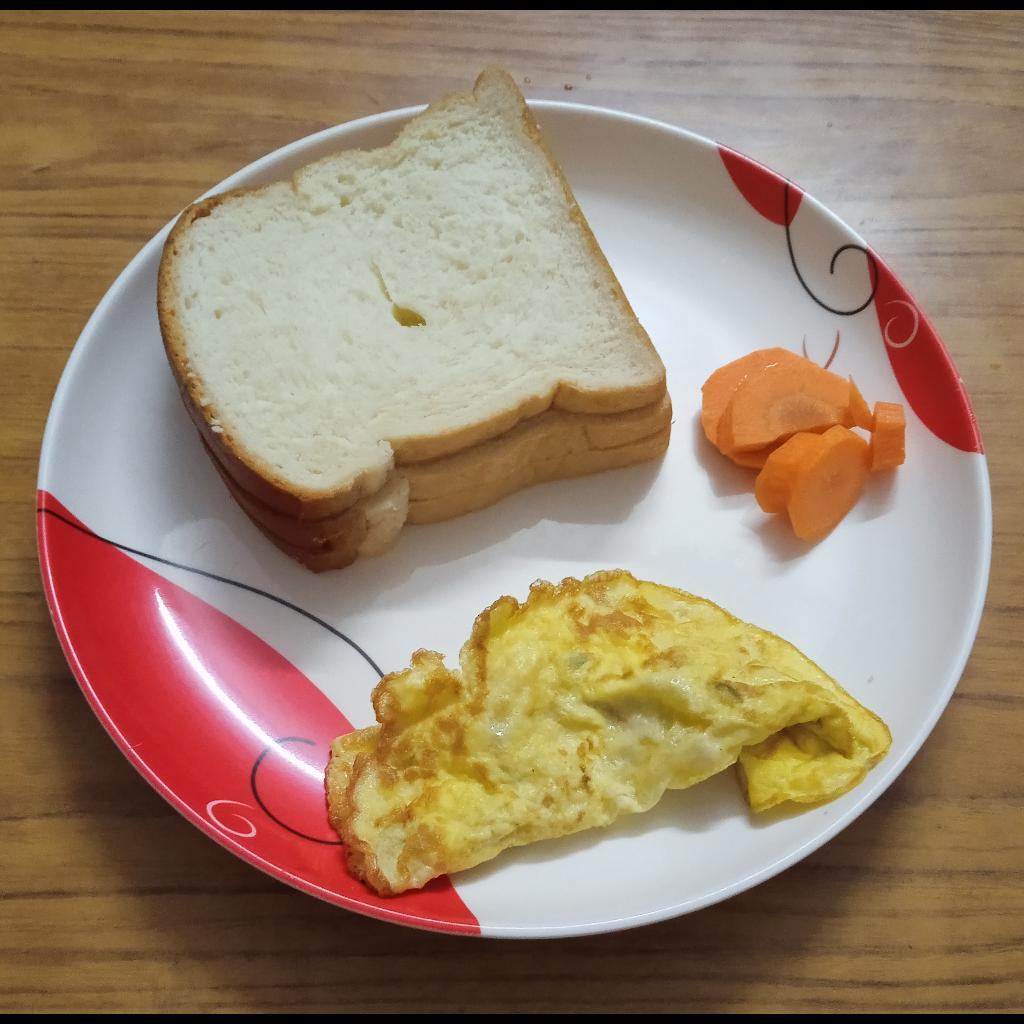bread: (154, 66, 675, 574)
carrot: (700, 347, 907, 546)
egg-poached: (322, 570, 895, 898)
